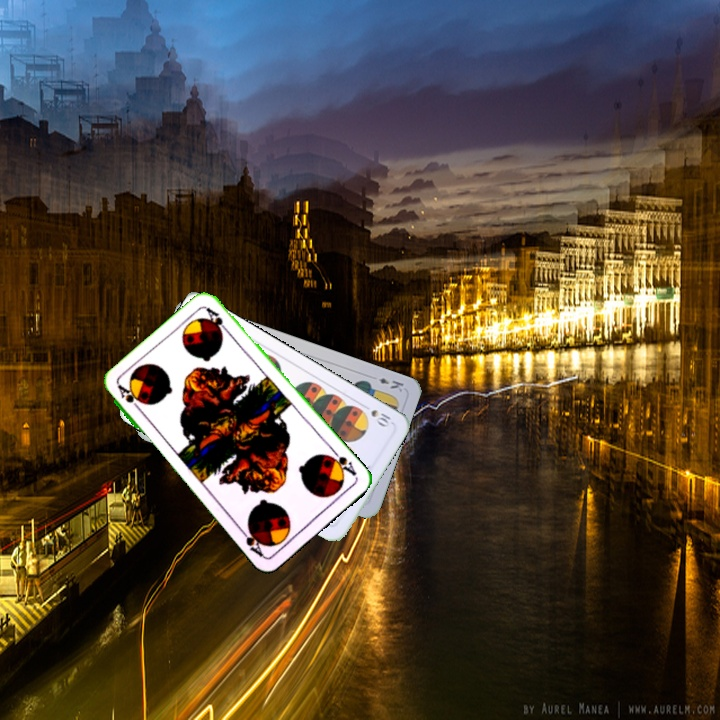EK: (375, 374, 406, 394)
S10: (358, 400, 395, 430)
SA: (324, 445, 360, 479), (114, 381, 145, 415)
